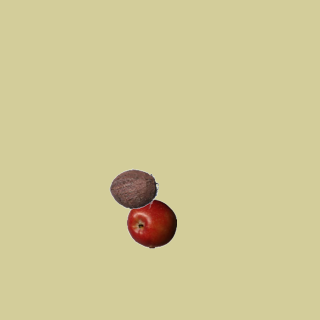Apple Braeburn: (126, 198, 176, 248)
Cocos: (108, 163, 158, 213)
